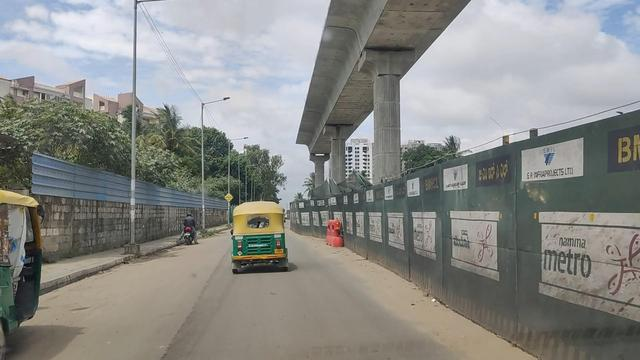LMV: (0, 181, 52, 358), (223, 198, 290, 280)
